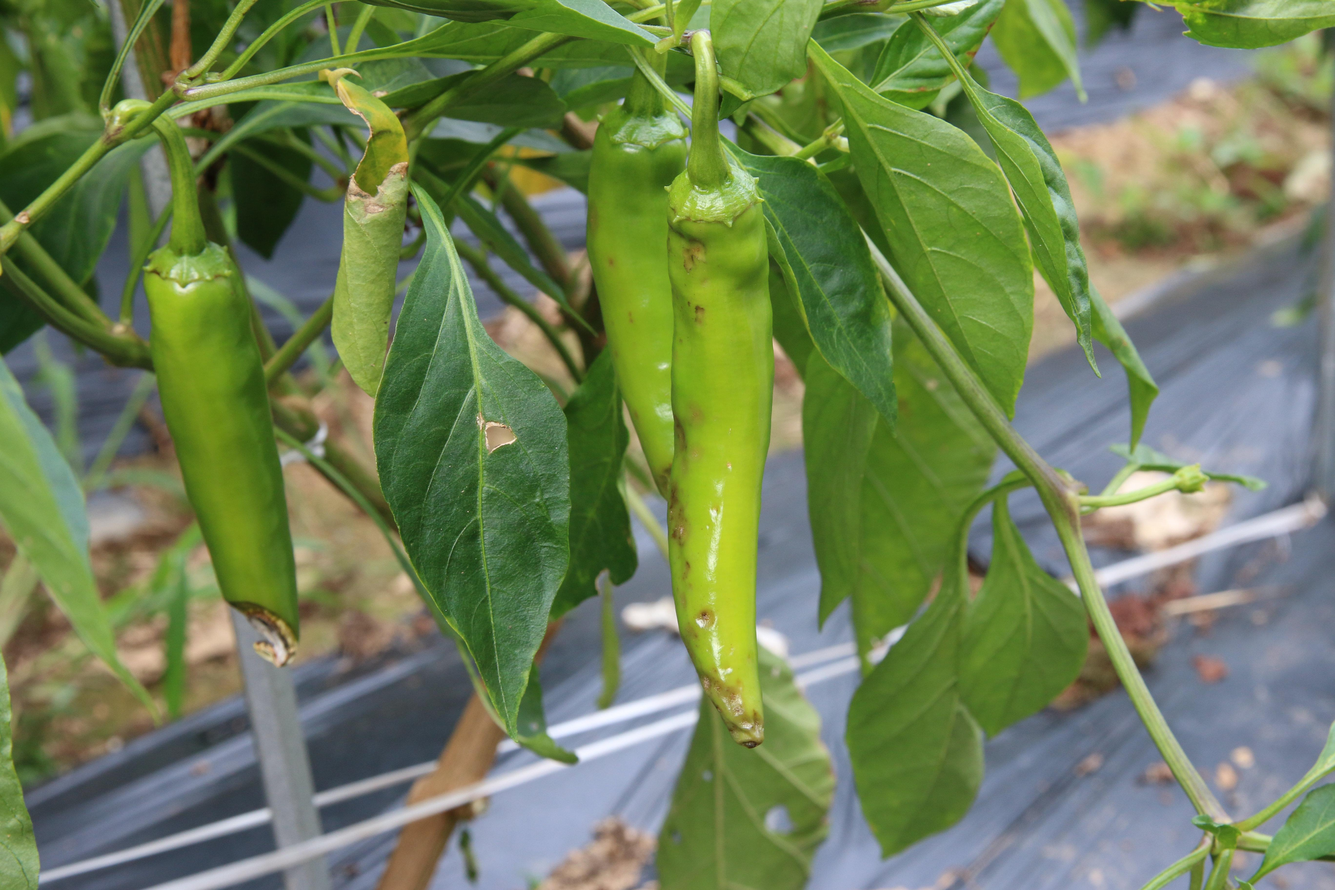Busuk Buah Antraknosa: (660, 28, 777, 750), (137, 230, 311, 683)
Daun Cabai Sehat: (375, 216, 576, 742), (817, 52, 1043, 383)
